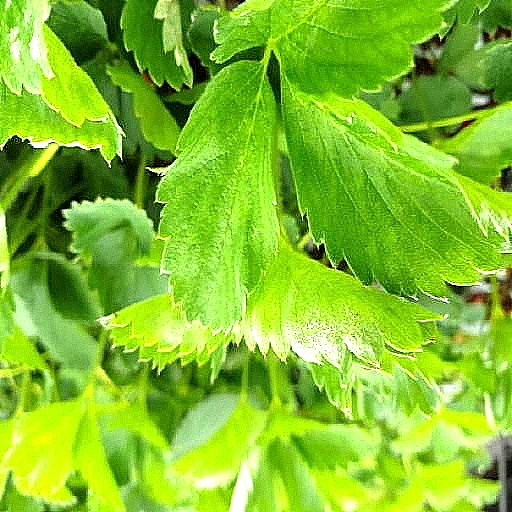Powdery Mildew Leaf: (233, 236, 451, 371), (96, 292, 233, 377)
